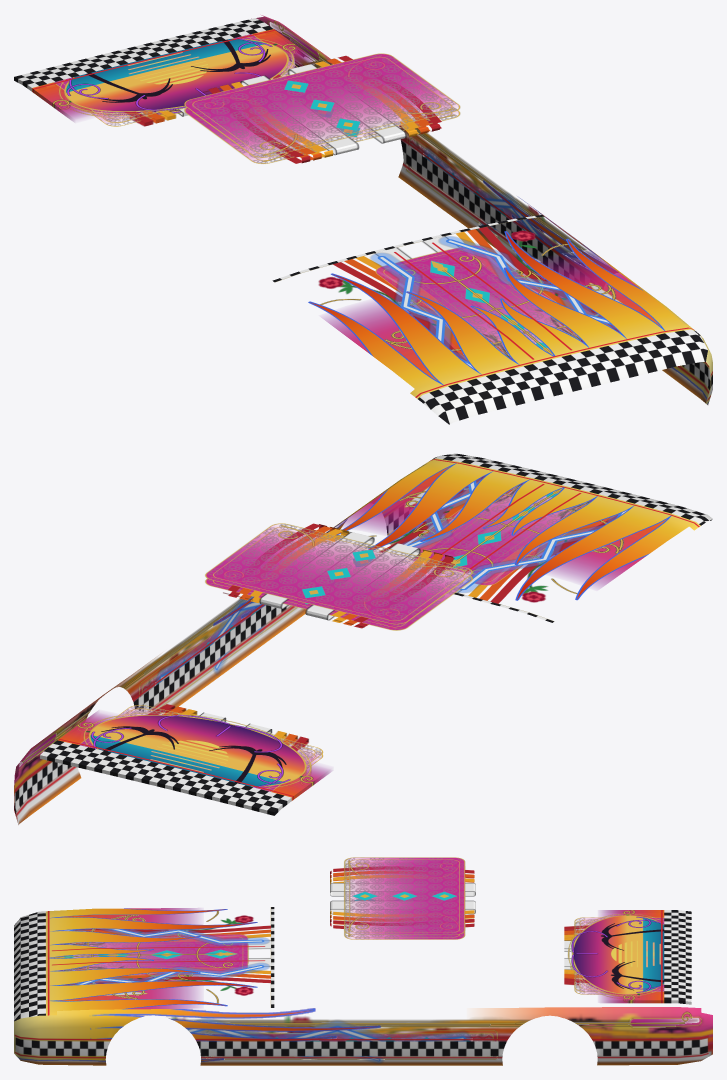
The model's file is LowriderVinyls.glb.
The picture shows the model from 3 angles, top to bottom: view 1: azimuth 30°, elevation 25°; view 2: azimuth 150°, elevation 25°; view 3: azimuth 270°, elevation 25°; orthographic projection. The views are drawn at different scales.
Parts seen in each view (by area): view 1: Livery_flames_hood, Livery_patterns_roof, Livery_checker_hood, Livery_purple_lace_roof, Livery_mural_trunk, Livery_patterns_hood, Livery_checker_side, Livery_checker_trunk, Livery_lightning_hood, Livery_retro_waves_roof, Livery_purple_lace_hood, Livery_sunset_fade_hood (+18 smaller); view 2: Livery_patterns_roof, Livery_flames_hood, Livery_purple_lace_roof, Livery_mural_trunk, Livery_checker_trunk, Livery_patterns_hood, Livery_checker_side, Livery_checker_hood, Livery_retro_waves_roof, Livery_purple_lace_hood, Livery_sunset_fade_hood, Livery_lightning_hood (+19 smaller); view 3: Livery_flames_hood, Livery_checker_side, Livery_patterns_roof, Livery_purple_lace_roof, Livery_flames_side, Livery_mural_trunk, Livery_checker_hood, Livery_patterns_hood, Livery_tropical_side, Livery_retro_waves_side, Livery_stripes_side, Livery_checker_trunk (+23 smaller).
Part boxes in pixels (left/top/right/bottom): Livery_flames_hood: left=308, top=231, right=694, bottom=398; Livery_patterns_roof: left=184, top=53, right=459, bottom=163; Livery_checker_hood: left=272, top=215, right=707, bottom=424; Livery_purple_lace_roof: left=188, top=57, right=456, bottom=163; Livery_mural_trunk: left=52, top=36, right=295, bottom=117; Livery_patterns_hood: left=375, top=245, right=580, bottom=358; Livery_checker_side: left=289, top=57, right=712, bottom=400; Livery_checker_trunk: left=14, top=18, right=275, bottom=92; Livery_lightning_hood: left=370, top=236, right=616, bottom=368; Livery_retro_waves_roof: left=203, top=55, right=441, bottom=163; Livery_purple_lace_hood: left=418, top=257, right=578, bottom=356; Livery_sunset_fade_hood: left=326, top=255, right=660, bottom=380; Livery_patterns_roof: left=205, top=523, right=472, bottom=630; Livery_flames_hood: left=336, top=458, right=700, bottom=600; Livery_purple_lace_roof: left=211, top=524, right=470, bottom=626; Livery_mural_trunk: left=77, top=712, right=313, bottom=788; Livery_checker_trunk: left=40, top=739, right=293, bottom=815; Livery_patterns_hood: left=412, top=485, right=590, bottom=585; Livery_checker_side: left=14, top=509, right=409, bottom=819; Livery_checker_hood: left=429, top=453, right=712, bottom=622; Livery_retro_waves_roof: left=223, top=523, right=454, bottom=628; Livery_purple_lace_hood: left=429, top=485, right=588, bottom=569; Livery_sunset_fade_hood: left=343, top=466, right=666, bottom=585; Livery_lightning_hood: left=401, top=478, right=627, bottom=592; Livery_flames_hood: left=45, top=908, right=257, bottom=1015; Livery_checker_side: left=14, top=1035, right=708, bottom=1058; Livery_patterns_roof: left=344, top=857, right=464, bottom=939; Livery_purple_lace_roof: left=345, top=858, right=454, bottom=938; Livery_flames_side: left=14, top=1008, right=684, bottom=1061; Livery_mural_trunk: left=568, top=910, right=664, bottom=1003; Livery_checker_hood: left=14, top=907, right=274, bottom=1021; Livery_patterns_hood: left=56, top=934, right=248, bottom=975; Livery_tropical_side: left=479, top=1007, right=712, bottom=1043; Livery_retro_waves_side: left=196, top=1019, right=712, bottom=1049; Livery_stripes_side: left=19, top=1050, right=712, bottom=1063; Livery_checker_trunk: left=661, top=910, right=691, bottom=1004.
Bounding box in the file's own units: 7.49 × 3.84 × 20.8.
Materials: 50 (50 with a texture image).
